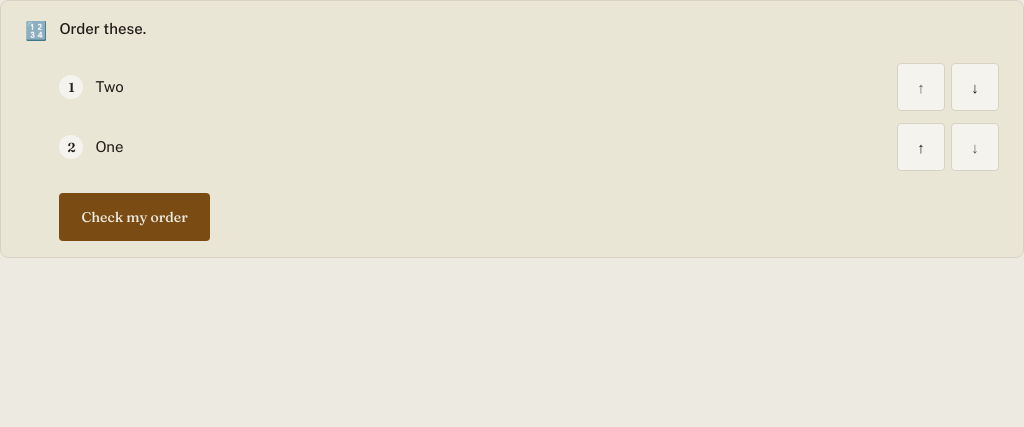
Scenario: accessibility: state is not conveyed by colour alone › SequenceIt labels each row correct/out-of-order in text, not just colour
Click the button "Check my order" at {"x": 135, "y": 217}, box [60, 193, 210, 241]
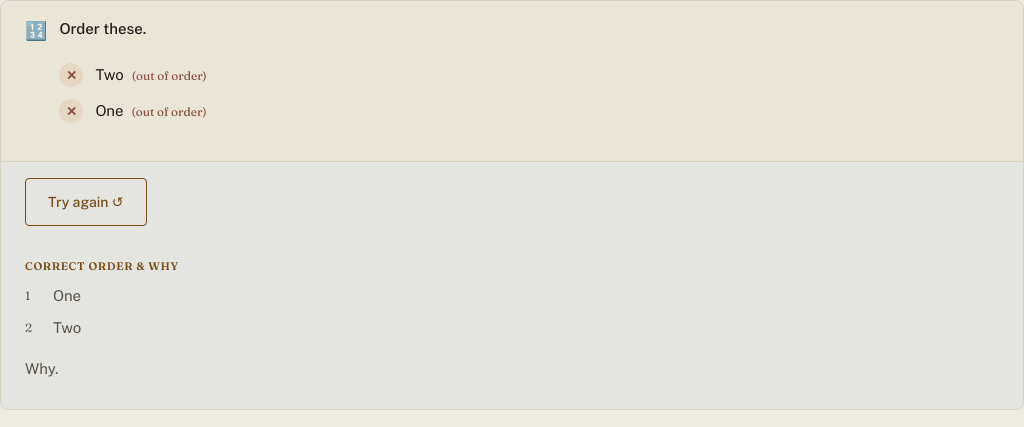
Expected: the text "(out of order)" is shown 2 times, [132, 68, 207, 83]; [132, 104, 206, 119]
